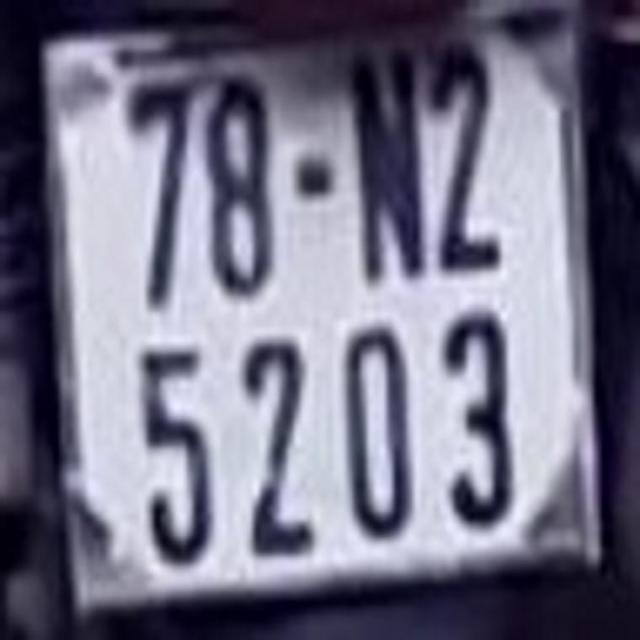0: (343, 326, 422, 536)
2: (243, 336, 320, 563), (431, 42, 500, 265)
3: (449, 307, 514, 520)
5: (140, 348, 217, 559)
7: (122, 79, 192, 308)
8: (200, 76, 270, 294)
N: (347, 52, 429, 278)
